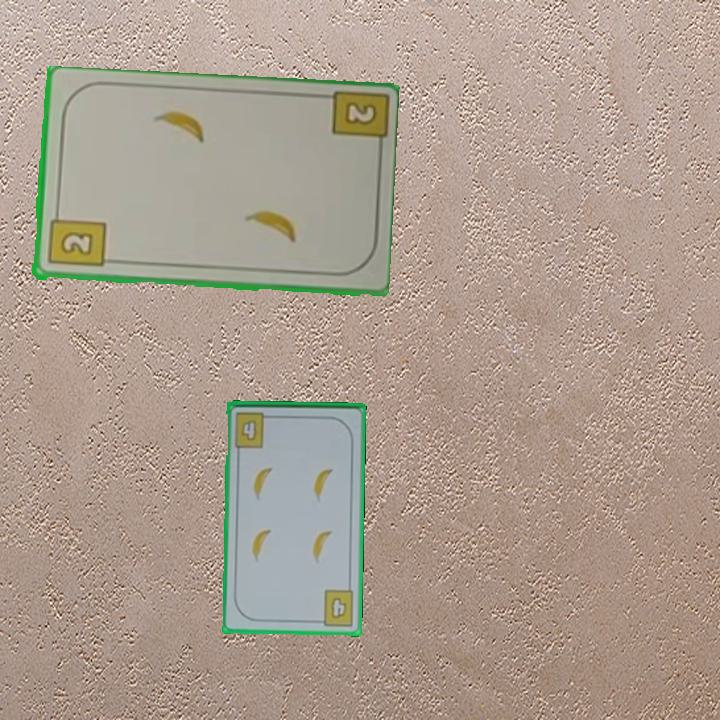2b: (44, 207, 107, 270), (341, 98, 380, 128)
4b: (313, 586, 357, 629), (231, 408, 275, 450)
